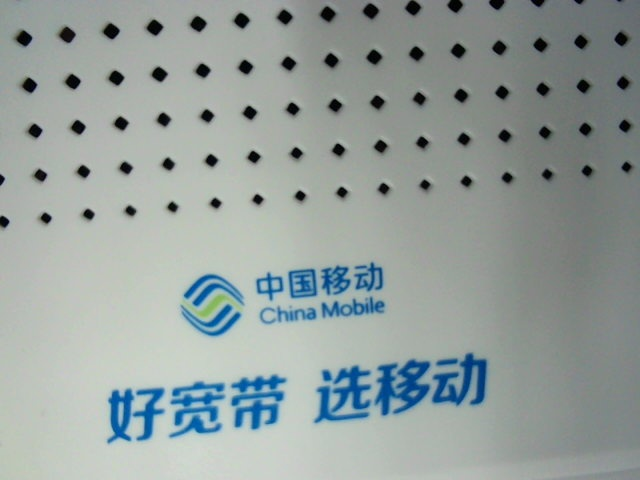AA_ChinaMobile: (81, 242, 498, 441)
